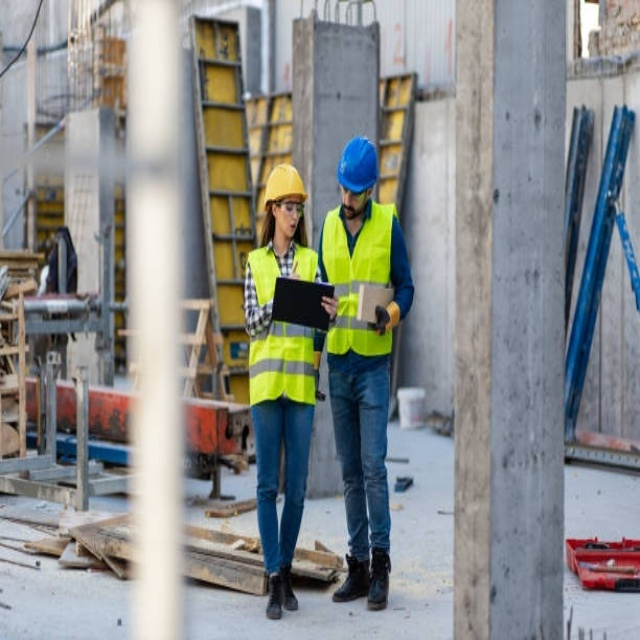Gafas: (340, 183, 371, 201), (276, 201, 305, 217)
Guantes: (373, 305, 392, 336)
Sin_guantes: (320, 295, 338, 323)
Sin_mascara: (281, 216, 299, 238), (341, 202, 359, 218)
